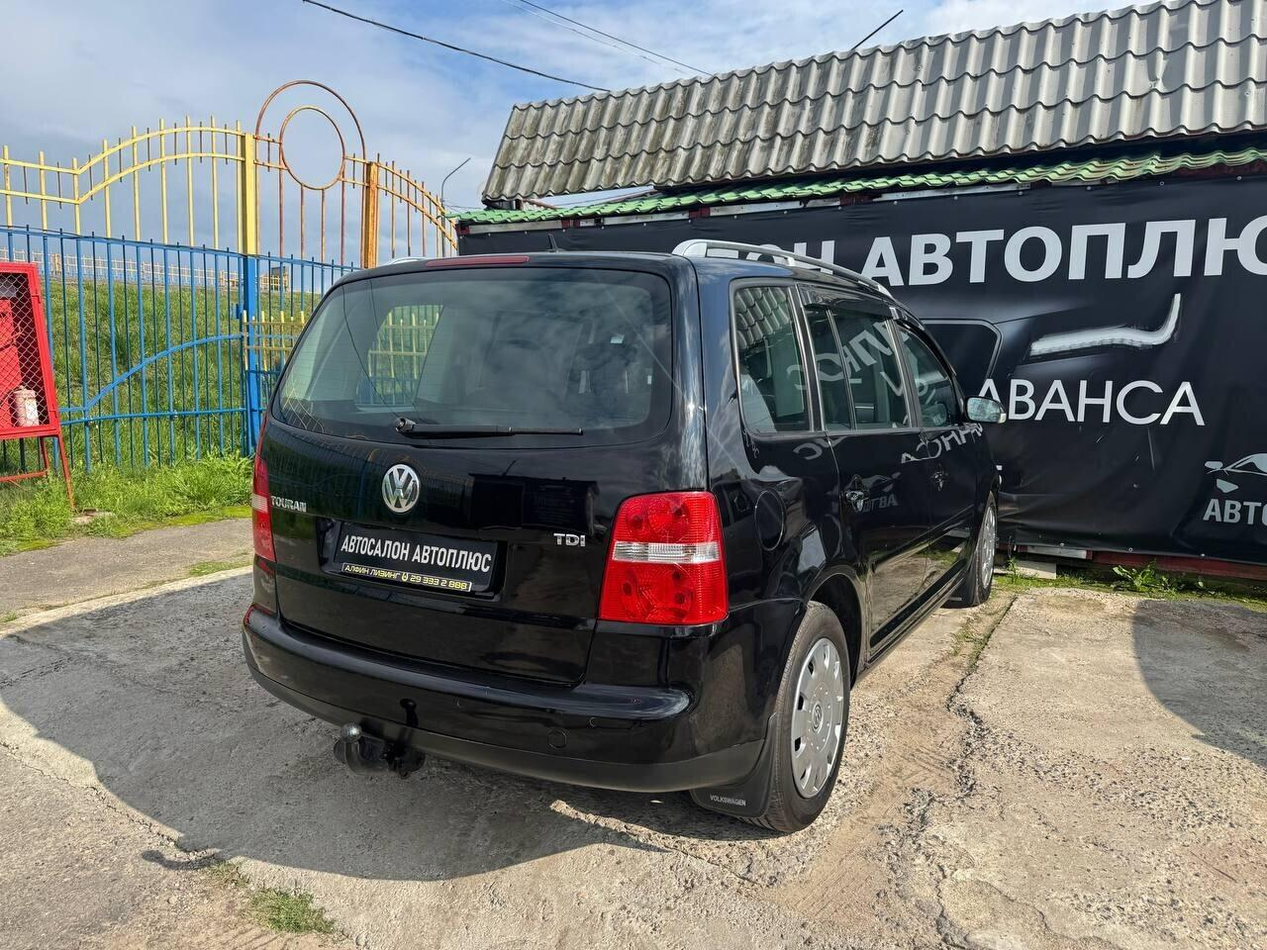Touran_2003-2006: (241, 251, 1000, 836)
